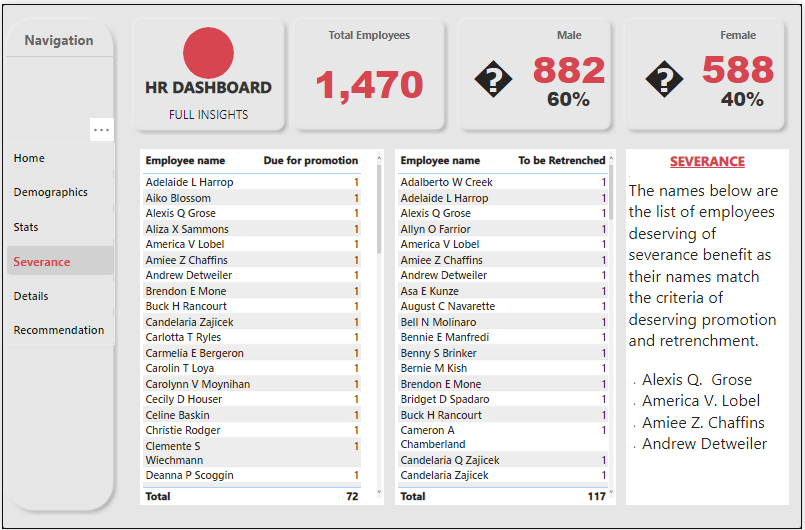

The page's visual inventory and layout, read from the dashboard file:
{"tool":"powerbi","page":{"name":"Severance","canvas":[1600,1050],"ordinal":3},"visuals":[{"type":"shape","box":[253.3,20,320,241.7],"z":0},{"type":"shape","box":[573.9,20,320,241.1],"z":1000},{"type":"shape","box":[903.7,20,323.2,241.1],"z":2000},{"type":"shape","box":[1236.1,20,337.8,241.1],"z":3000},{"type":"textbox","box":[260,138,306,78],"z":4000},{"type":"textbox","box":[260,198,306,78],"z":5000},{"type":"shape","box":[362,46,102,104],"z":6000},{"type":"card","title":"Total Employees","fields":{"Values":["All Measures.Total Emp"]},"box":[584,46,300,192],"z":7000},{"type":"card","title":"Male","fields":{"Values":["All Measures.Males"]},"box":[1054.3,45.7,160,131.4],"z":8000},{"type":"card","title":"Male","fields":{"Values":["All Measures.% Males"]},"box":[1064,146,138,86],"z":9000},{"type":"card","title":"Female","fields":{"Values":["All Measures.Females"]},"box":[1382,46,180,132],"z":10000},{"type":"card","title":"Male","fields":{"Values":["All Measures.% Females"]},"box":[1412,146,138,86],"z":11000},{"type":"shape","title":"🙎♀️","box":[1286,84,96,106],"z":12000},{"type":"shape","title":"🙎♂️","box":[944,84,96,106],"z":13000},{"type":"tableEx","fields":{"Values":["HR Analytics Data.Employee name","All Measures.Due for promotion"]},"box":[276,290,488,712],"z":14000},{"type":"tableEx","fields":{"Values":["HR Analytics Data.Employee name","All Measures.To be Retrenched"]},"box":[786,290,442,712],"z":15000},{"type":"textbox","box":[1248,290,326,712],"z":16000},{"type":"shape","box":[0,20,232,1002],"z":17000},{"type":"textbox","box":[22,48,184,50],"z":18000},{"type":"shape","box":[8,98,218,14],"z":19000},{"type":"pageNavigator","title":"Page navigator","box":[8,276,218,406],"z":20000}]}

Visuals, with their boxes in screenshot pixels (x1, y1, x2, y2), scaled from the page's 1600x1050 canvas onto the 805x530 screenshot:
shape: select_region(127, 10, 288, 132)
shape: select_region(289, 10, 450, 132)
shape: select_region(455, 10, 617, 132)
shape: select_region(622, 10, 792, 132)
textbox: select_region(131, 70, 285, 109)
textbox: select_region(131, 100, 285, 139)
shape: select_region(182, 23, 233, 76)
"Total Employees" card: select_region(294, 23, 445, 120)
"Male" card: select_region(530, 23, 611, 89)
"Male" card: select_region(535, 74, 605, 117)
"Female" card: select_region(695, 23, 786, 90)
"Male" card: select_region(710, 74, 780, 117)
"🙎♀️" shape: select_region(647, 42, 695, 96)
"🙎♂️" shape: select_region(475, 42, 523, 96)
tableEx - HR Analytics Data.Employee name x All Measures.Due for promotion: select_region(139, 146, 384, 506)
tableEx - HR Analytics Data.Employee name x All Measures.To be Retrenched: select_region(395, 146, 618, 506)
textbox: select_region(628, 146, 792, 506)
shape: select_region(0, 10, 117, 516)
textbox: select_region(11, 24, 104, 49)
shape: select_region(4, 49, 114, 57)
"Page navigator" pageNavigator: select_region(4, 139, 114, 344)
